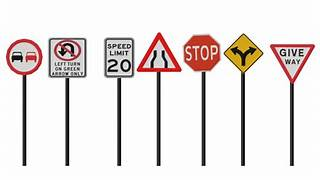stop: (184, 34, 221, 72)
